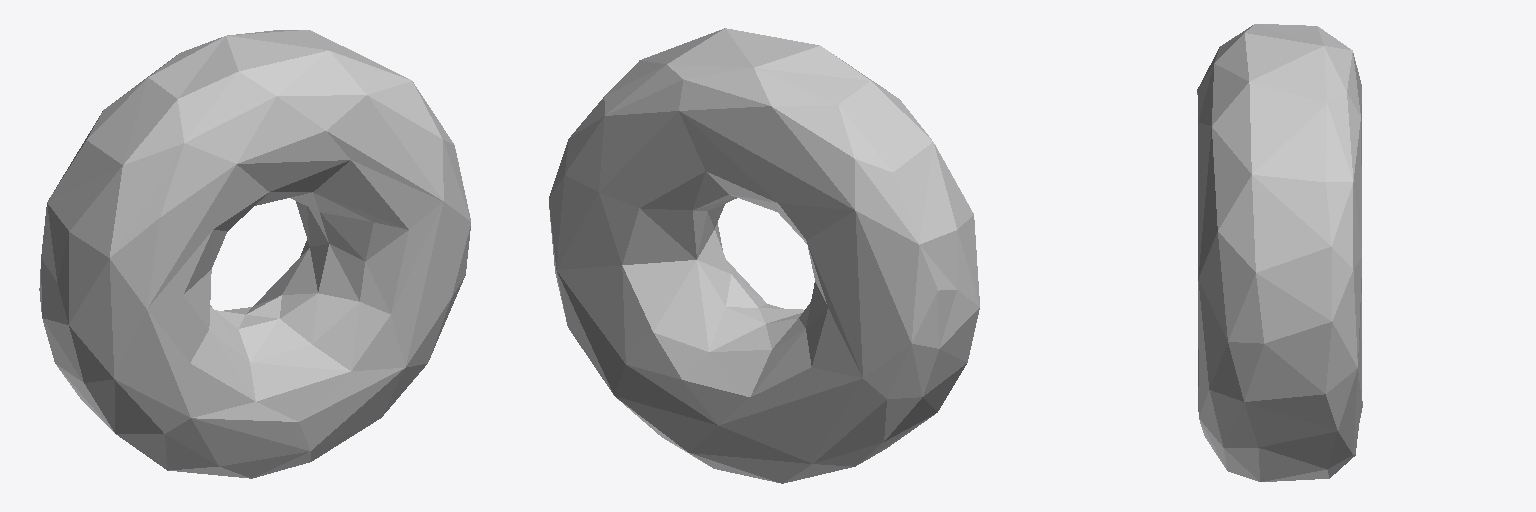
Rendered from donut_low.obj.
3 views of the same model, side by side, from view 1: azimuth 30°, elevation 25°; view 2: azimuth 150°, elevation 25°; view 3: azimuth 270°, elevation 25° (orthographic).
Visible parts, largest first — view 1: Group20863; view 2: Group20863; view 3: Group20863.
Boxes of the visible parts, x1,y1,x2,y2 form: Group20863: [39, 30, 470, 478]; Group20863: [549, 28, 979, 483]; Group20863: [1197, 24, 1362, 481].
Size of the model in its own units: 1.96 by 1.94 by 0.7036.